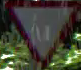Give way: (4, 2, 80, 68)
